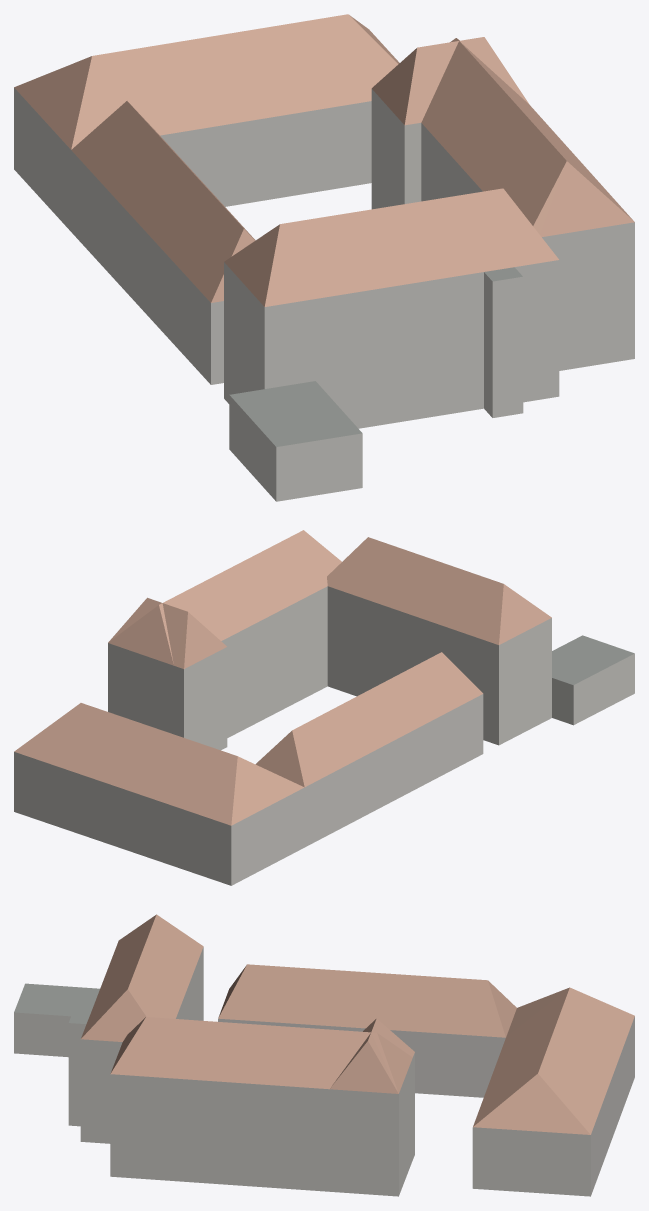
Rendered from gridID_97.dae.
3 views of the same model, one above another, from view 1: azimuth 30°, elevation 25°; view 2: azimuth 150°, elevation 25°; view 3: azimuth 270°, elevation 25° (orthographic). The views are drawn at different scales.
Parts seen in each view (by area): view 1: model_gridID_97_w387650081_001, model_gridID_97_w361210610, model_gridID_97_w387650081; view 2: model_gridID_97_w387650081_001, model_gridID_97_w361210610, model_gridID_97_w387650081; view 3: model_gridID_97_w387650081_001, model_gridID_97_w361210610, model_gridID_97_w387650081.
Part boxes in pixels (x1,y1,x2,y2): model_gridID_97_w387650081_001: (224,37,634,428); model_gridID_97_w361210610: (14,14,399,384); model_gridID_97_w387650081: (229,381,362,501); model_gridID_97_w387650081_001: (108,530,551,750); model_gridID_97_w361210610: (14,652,483,885); model_gridID_97_w387650081: (552,635,634,725); model_gridID_97_w387650081_001: (68,914,414,1196); model_gridID_97_w361210610: (218,964,634,1196); model_gridID_97_w387650081: (14,983,99,1057).
Bounding box in the file's own units: 44.95 × 68.59 × 17.5.
